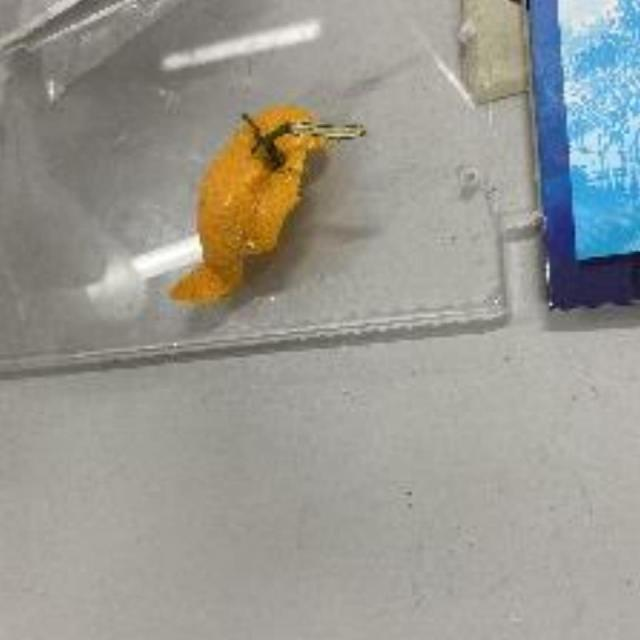orange-peel: (169, 104, 370, 312)
